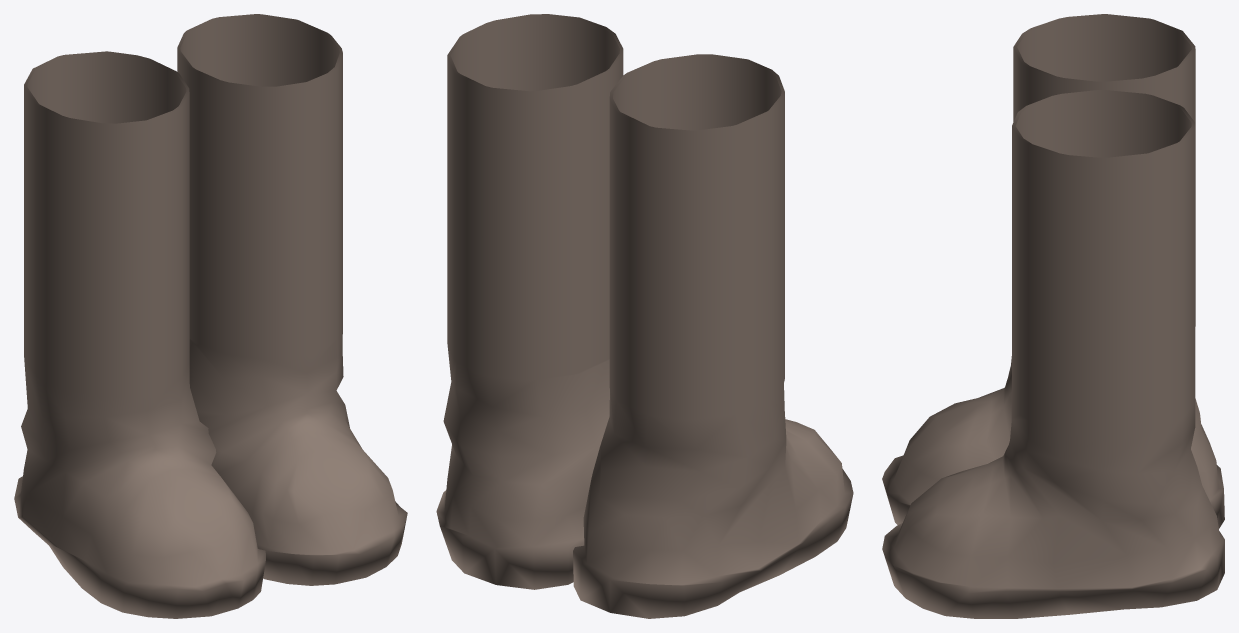
Rendered from tall-boots-only.glb.
3 renders of one model, left to right at view 1: azimuth 30°, elevation 25°; view 2: azimuth 150°, elevation 25°; view 3: azimuth 270°, elevation 25°, orthographic. The views are drawn at different scales.
Parts seen in each view (by area): view 1: Footwear_tall-boots_0; view 2: Footwear_tall-boots_0; view 3: Footwear_tall-boots_0.
Part boxes in pixels (x1=…): Footwear_tall-boots_0: x1=14, y1=14, x2=407, y2=618; Footwear_tall-boots_0: x1=436, y1=14, x2=853, y2=618; Footwear_tall-boots_0: x1=882, y1=14, x2=1224, y2=618.
Bounding box in the file's own units: 0.8872 × 1.25 × 0.843.
